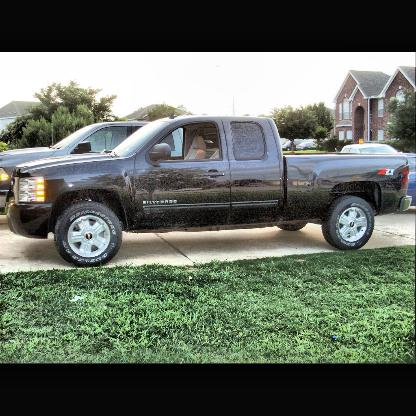Chevrolet Silverado 1500 Extended Cab 2012: (4, 116, 412, 270)
